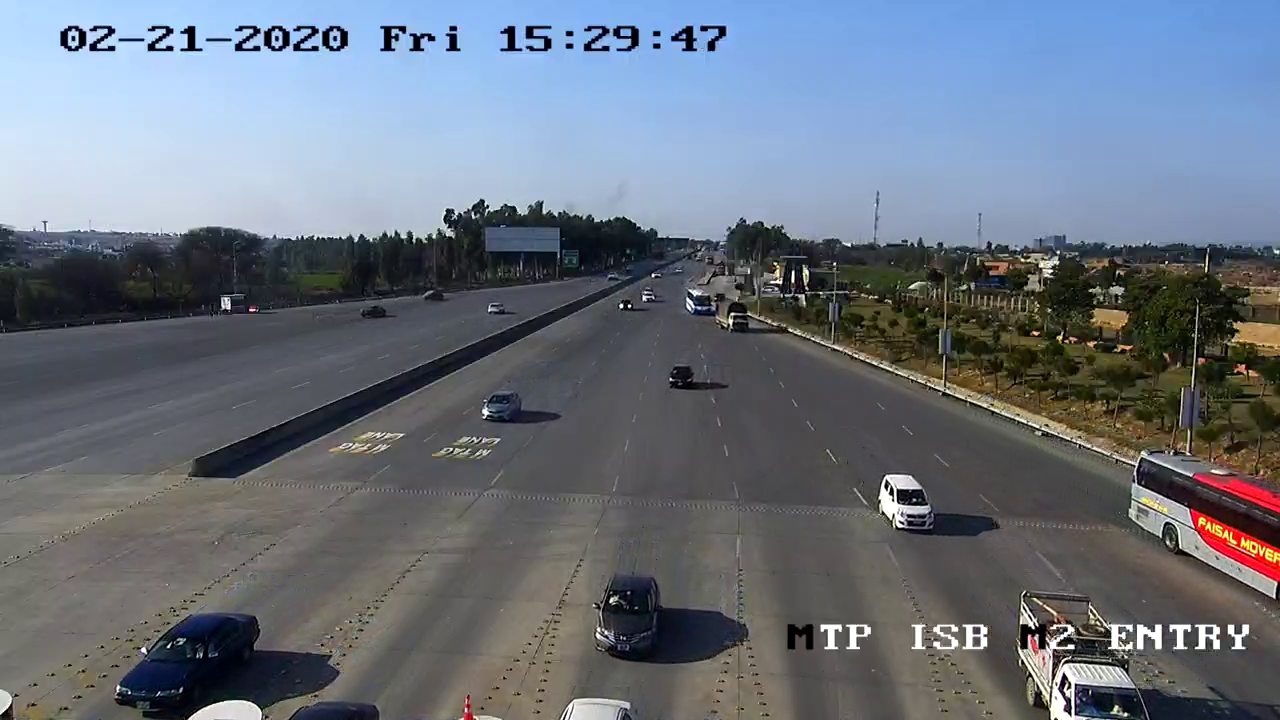f1: (103, 601, 271, 711), (585, 561, 675, 669), (863, 463, 946, 541), (472, 383, 535, 434)
